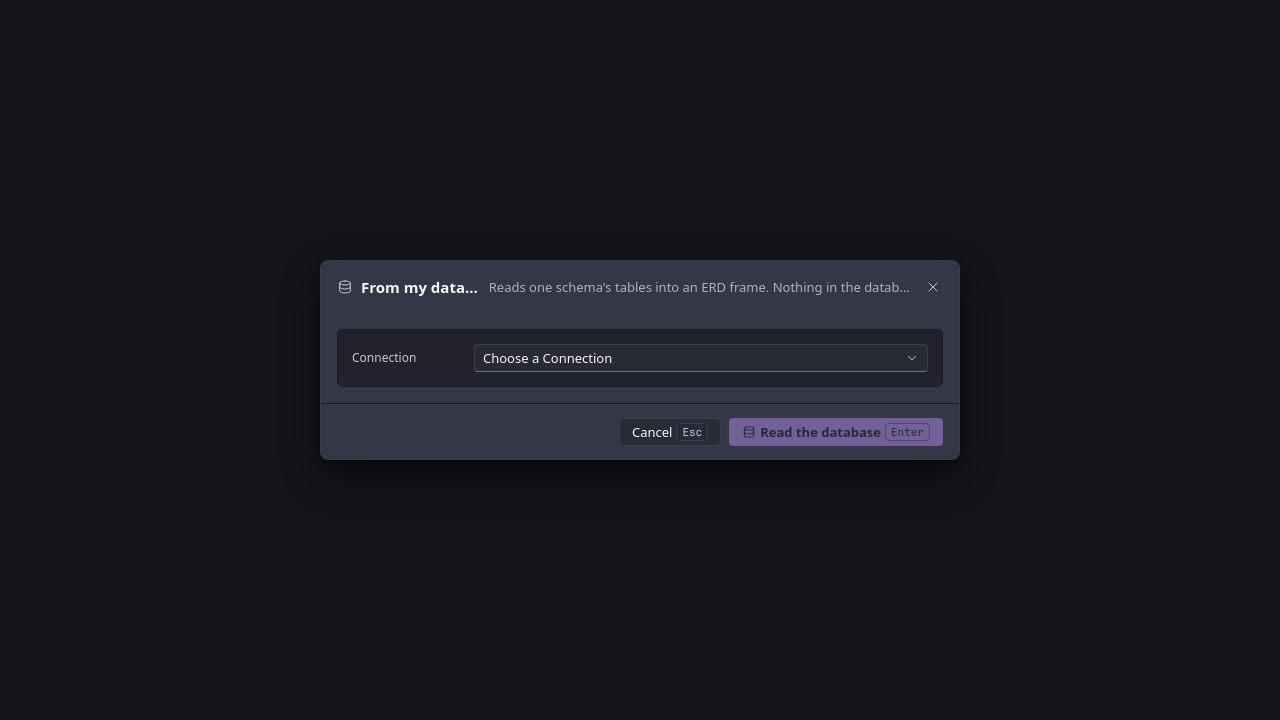
it: a_refusal_shows_in_the_dialog
Click the dropdown labelled "Connection".
click(548, 358)  # box [474,344,928,372]
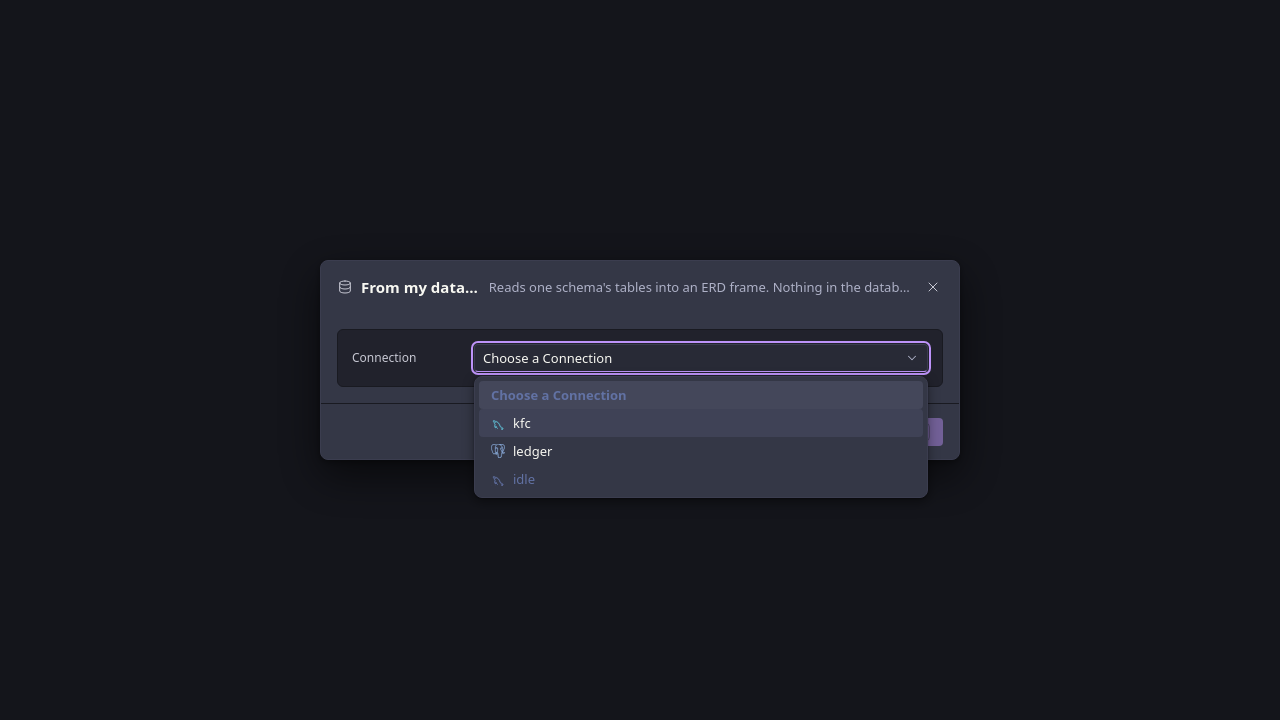
Click the option "kfc".
click(498, 423)  # box [479,409,923,437]
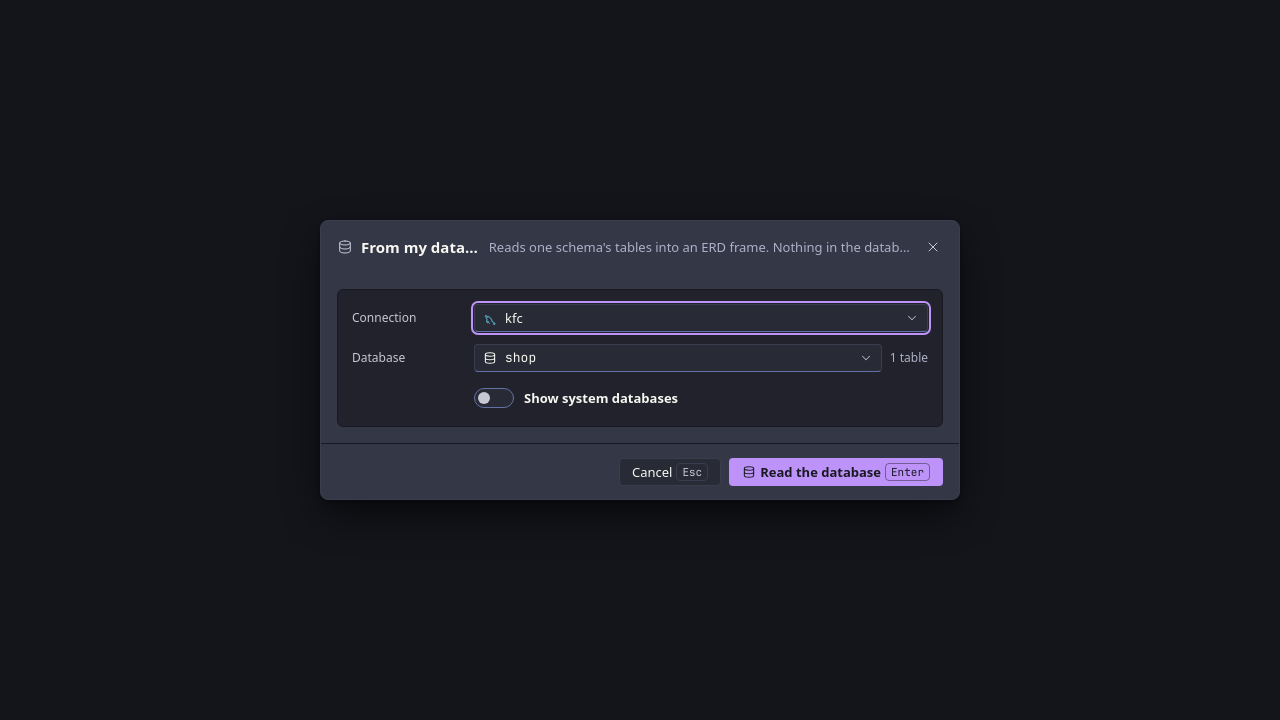
expect the text "1 table" is shown: met, box [890,350,928,366]
Click the button "Read the database Enter".
click(836, 472)  # box [729,458,943,486]
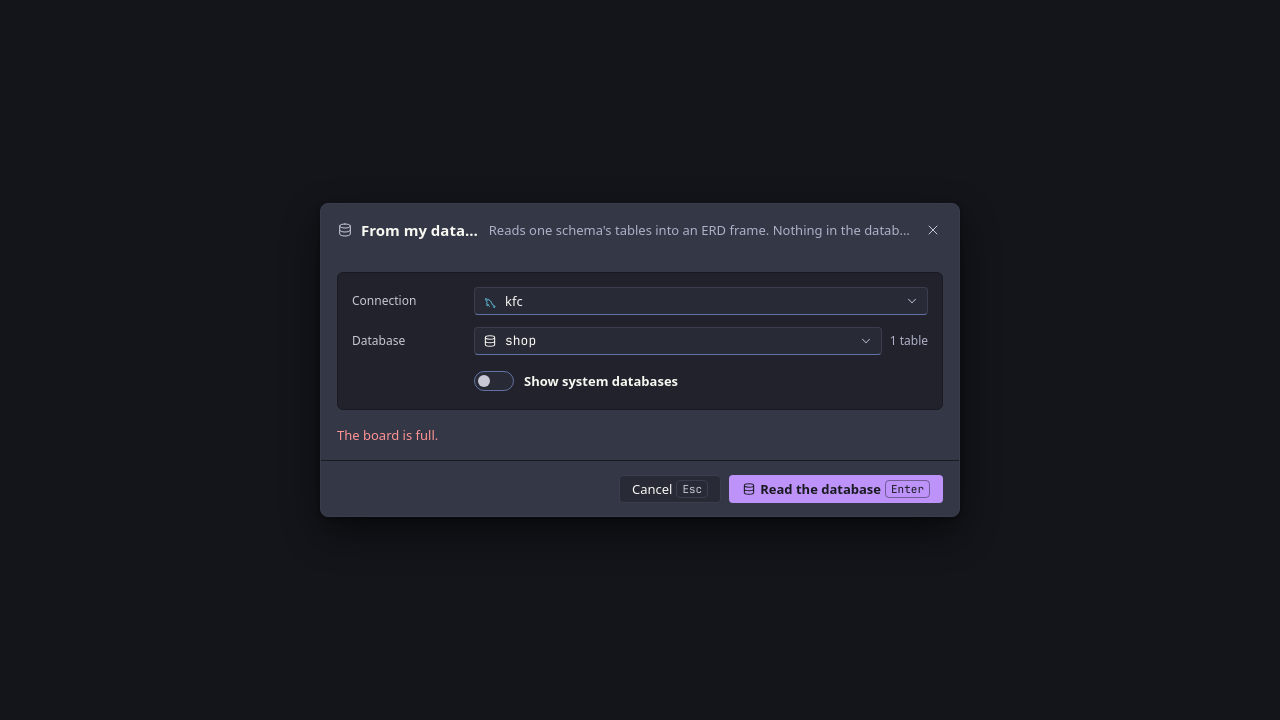
expect the message reads "The board is full.": met, box [337,426,438,444]
